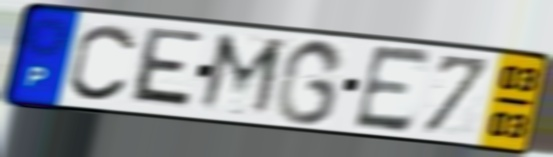7: (423, 51, 496, 138)
C: (66, 21, 141, 104)
E: (349, 42, 436, 136), (124, 24, 207, 113)
G: (271, 37, 348, 128)
M: (193, 29, 290, 121)
